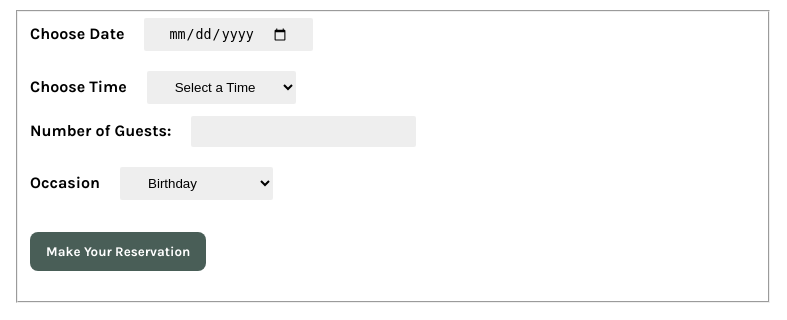
BookingForm Component › handles occasion selection
Select "Anniversary" in the dropdown labelled "Occasion" at [196, 183], box [120,167,273,200]
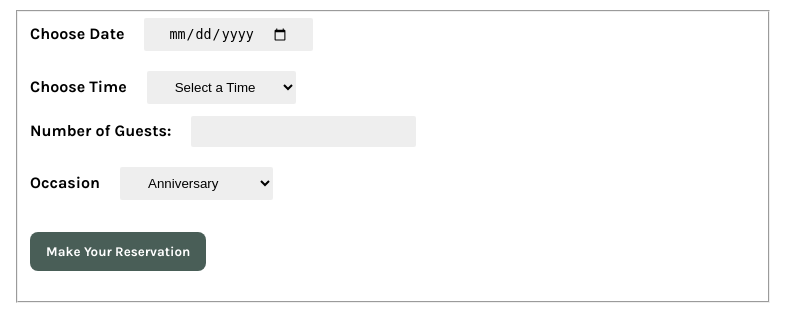
Check: the dropdown labelled "Occasion" shows "Anniversary", box [120,167,273,200]
